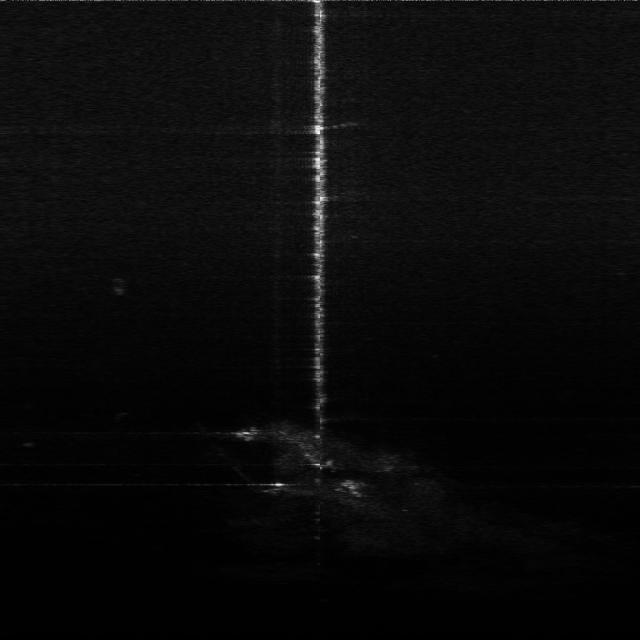rov: (228, 423, 262, 444)
